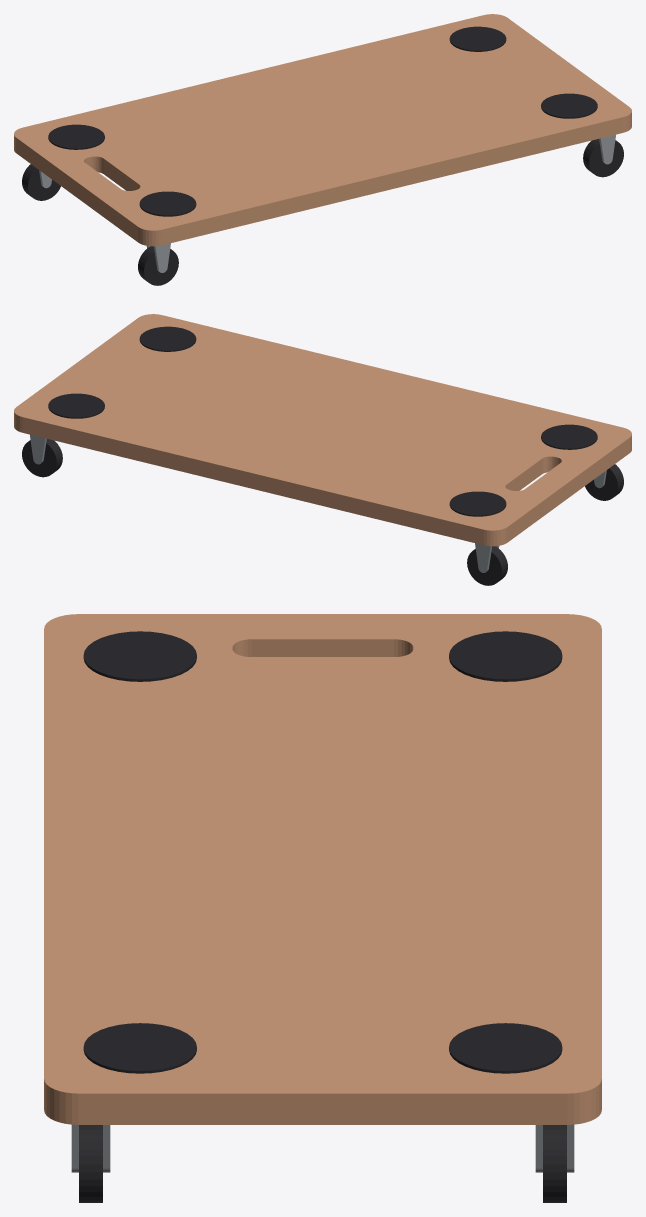
The model's file is working.glb.
3 views of the same model, one above another, from view 1: azimuth 30°, elevation 25°; view 2: azimuth 150°, elevation 25°; view 3: azimuth 270°, elevation 25° (orthographic). The views are drawn at different scales.
Parts seen in each view (by area): view 1: deck, trim, wheels, mounts; view 2: deck, trim, wheels, mounts; view 3: deck, trim, wheels, mounts.
Boxes of the visible parts, x1,y1,x2,y2 form: deck: (14,14,631,246); trim: (48,26,597,216); wheels: (22,139,623,285); mounts: (39,134,615,272); deck: (14,314,631,546); trim: (48,326,597,516); wheels: (22,439,623,585); mounts: (30,434,606,572); deck: (44,614,601,1124); trim: (83,631,562,1073); wheels: (79,1125,566,1202); mounts: (71,1124,574,1172).
Size of the model in its own units: 0.59 by 0.075 by 0.29.
